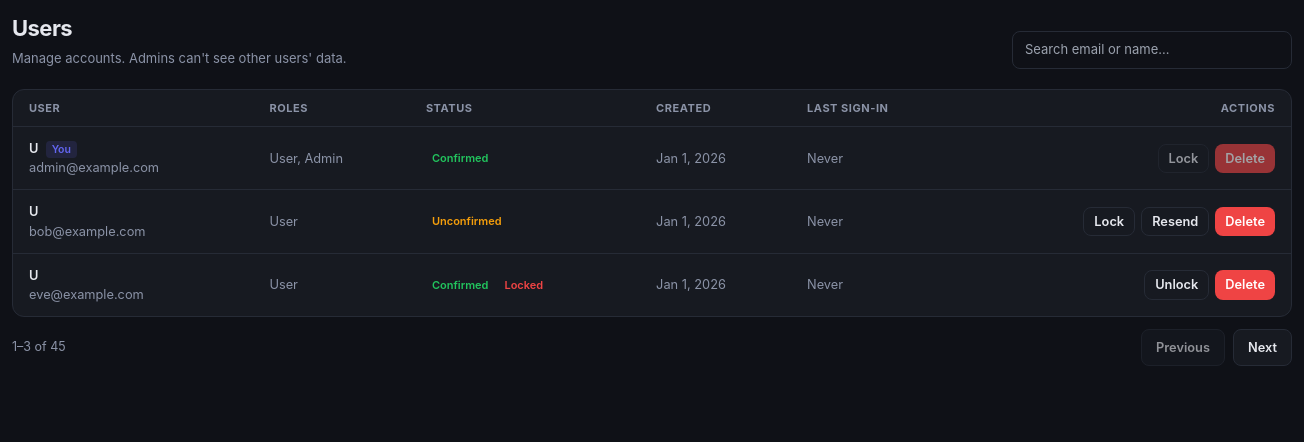
Test: AdminUsersPageComponent › reports a vanished user (404) and lost admin rights (403)
Click the button "Unlock": coordinates (1177, 285) [1144,270,1209,300]
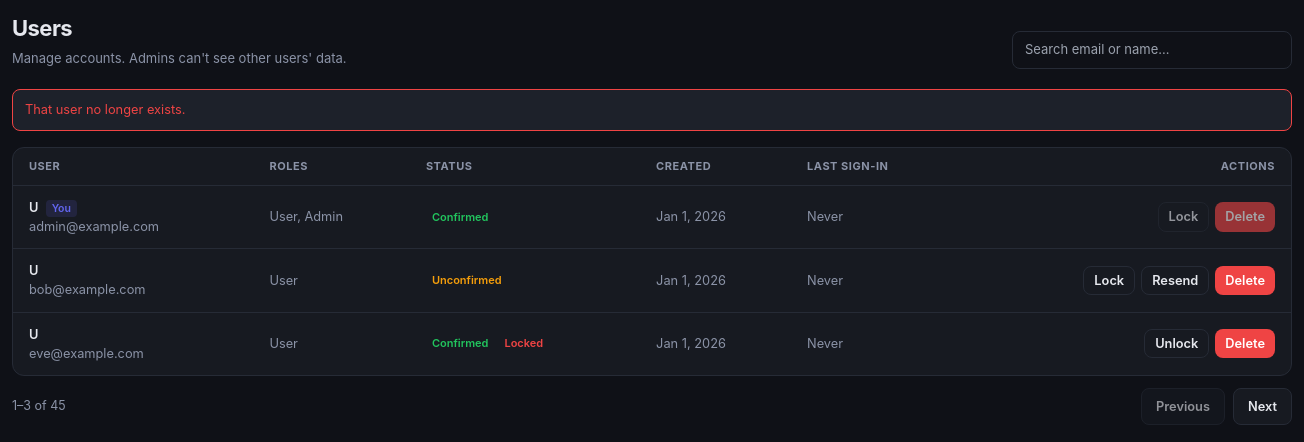
Result: the message "That user no longer exists." is shown at [12,88,1292,131]
Click the button "Lock" in the row of "bob@example.com": coordinates (1109, 280) [1083,266,1135,295]
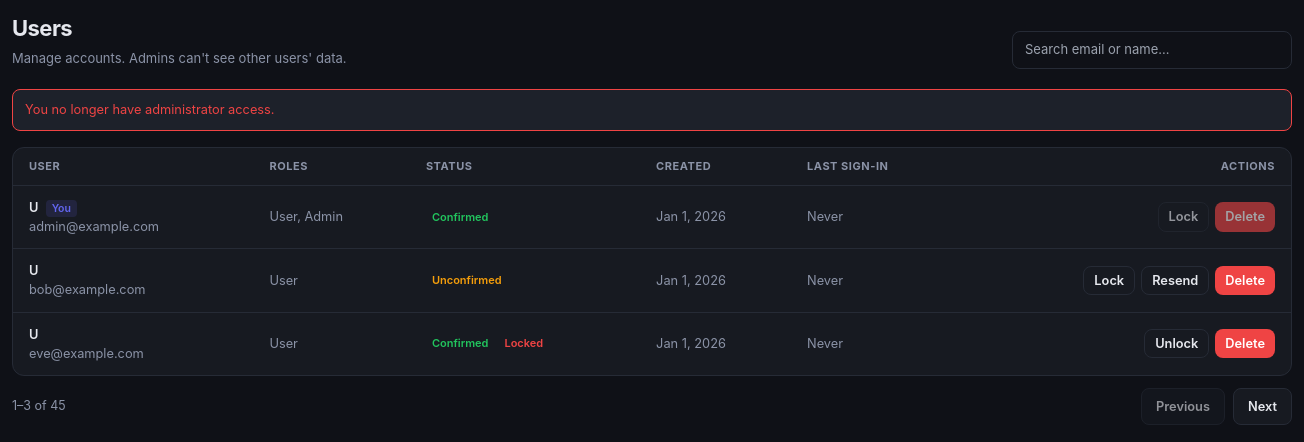
Result: the message "You no longer have administrator access." is shown at [12,88,1292,131]
